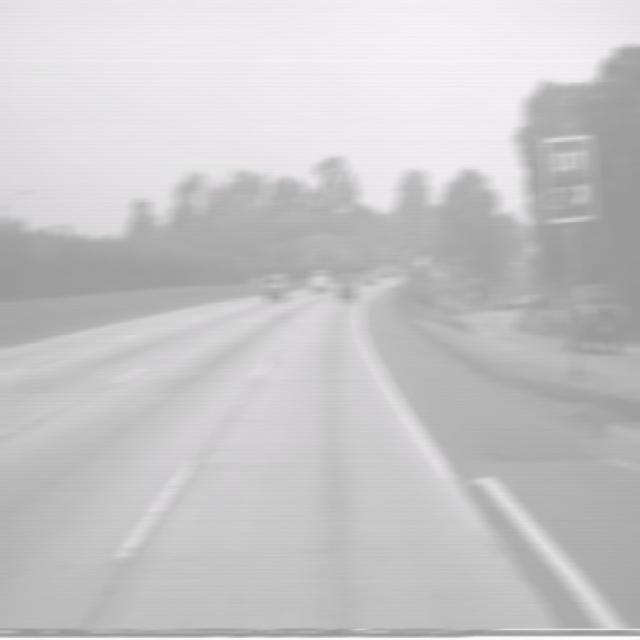signalAhead: (431, 258, 446, 290)
